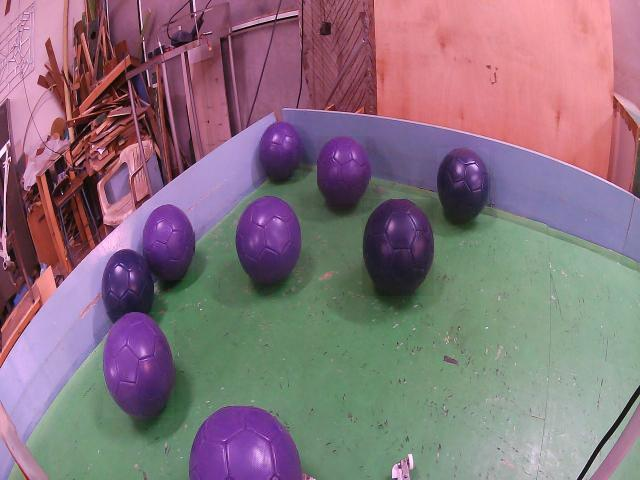jambhalya: (189, 406, 302, 479), (104, 312, 174, 418), (235, 196, 301, 284), (317, 136, 370, 207), (144, 205, 194, 280), (260, 122, 303, 179)
kaalyya: (363, 200, 434, 296), (101, 248, 154, 322), (437, 148, 489, 222)
